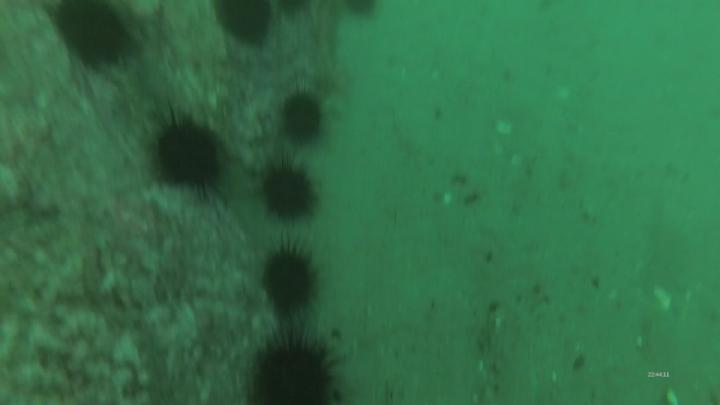echinus: (246, 327, 342, 405), (152, 108, 224, 201), (55, 1, 132, 72), (260, 242, 321, 323), (260, 162, 324, 225), (205, 1, 276, 50), (275, 90, 327, 149), (270, 1, 319, 24), (340, 1, 386, 21)
